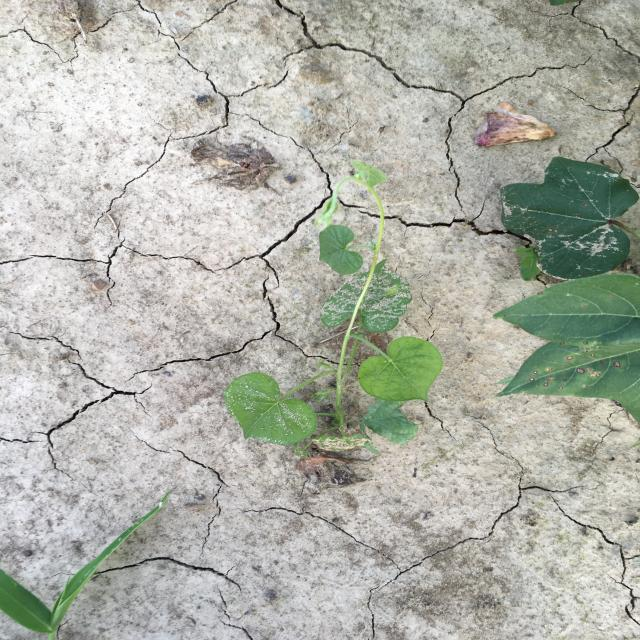MorningGlory: (223, 158, 446, 460)
